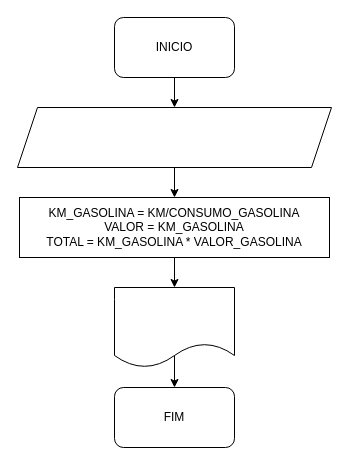
Some shapes in this 349 by 465 pixel diagram are drawn without their labels. The box of each missing label's shape, as (x1, y1, x2, y2) in pixels:
TOTAL: (114, 286, 234, 368)
VALOR_GASOLINA,KM,CONSUMO_GASOLINA: (16, 106, 332, 168)
